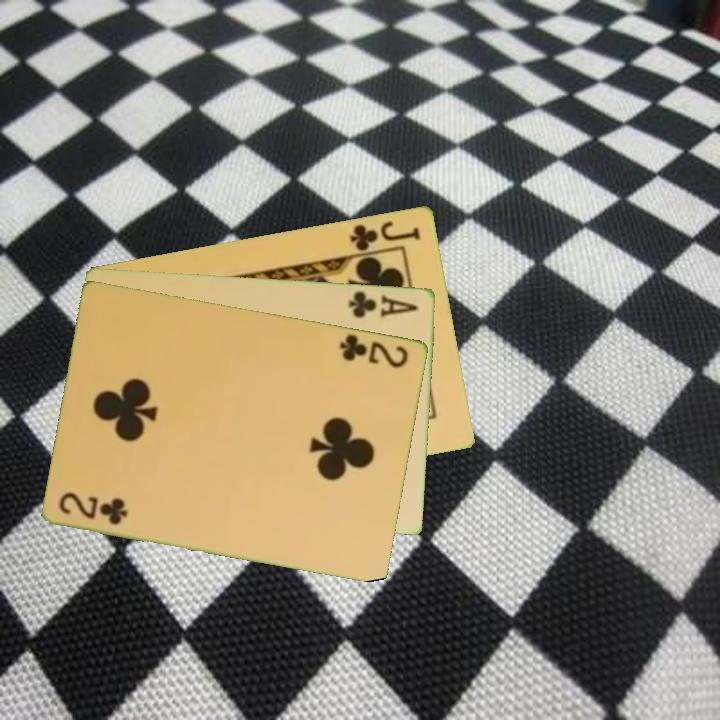2c: (336, 330, 412, 371), (56, 488, 131, 528)
Ac: (345, 287, 422, 321)
Jc: (346, 216, 424, 254)
